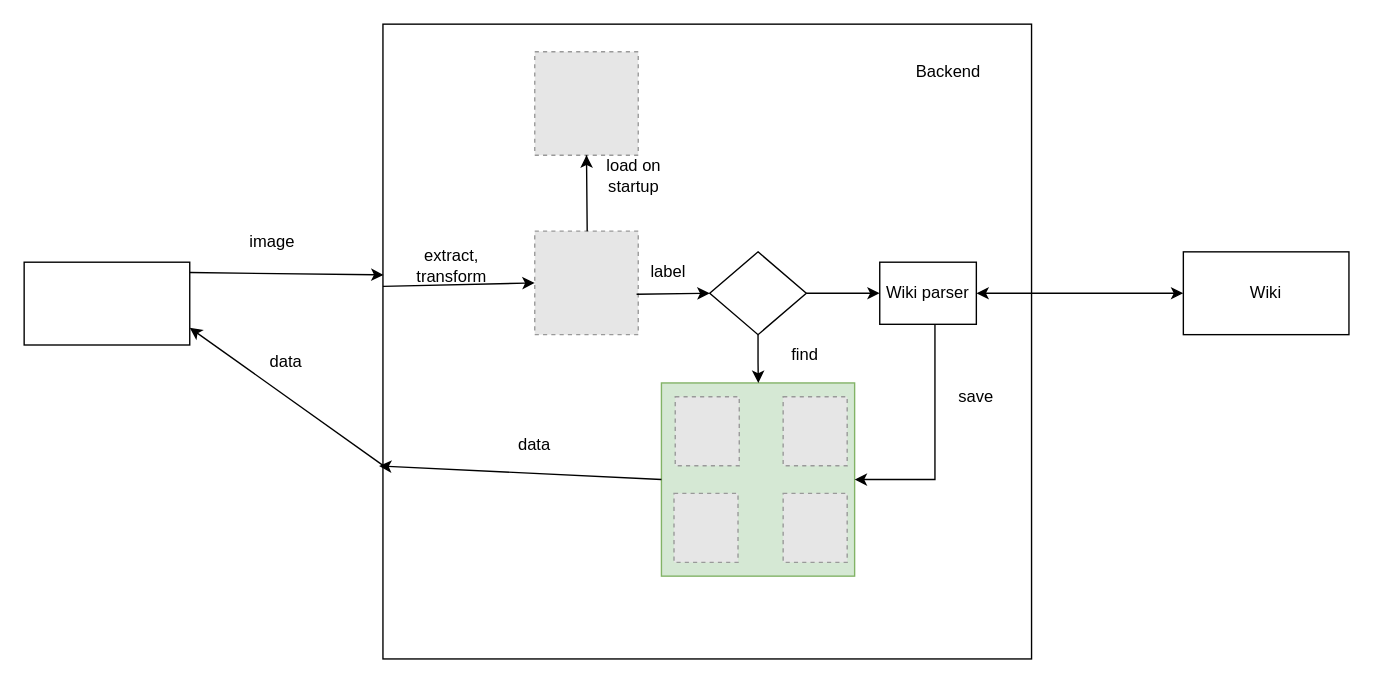
Some shapes in this 1373 by 683 pixel diagram are drawn without their labels. Grey dashed boxes stand in for pictures. Here are the shapes that lost their labels. From the top down, the centre of each, then its label:
point (106, 303): Front end
point (757, 292): if cache exists ?
